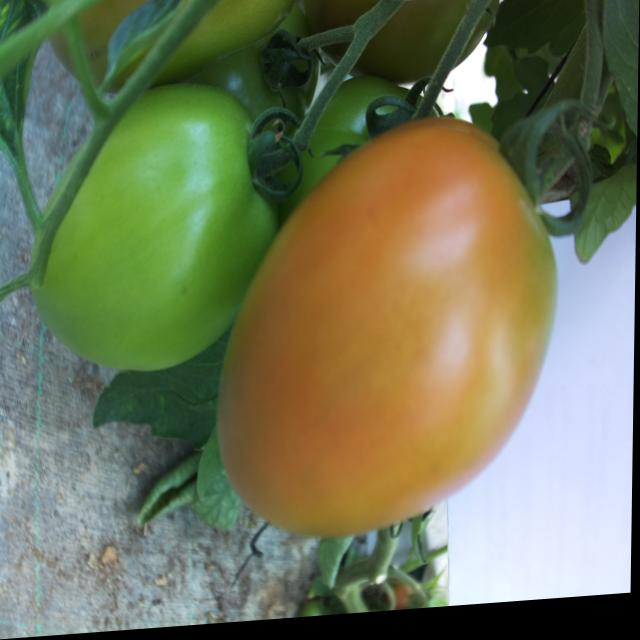sari: (227, 162, 577, 528)
